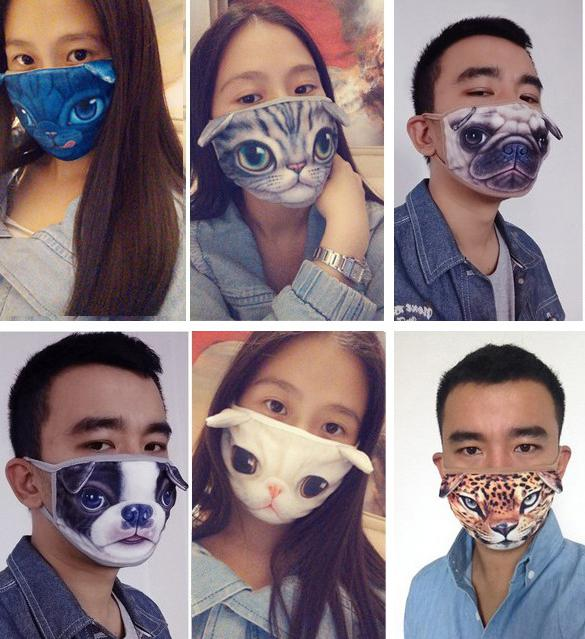OK: (37, 408, 183, 554), (225, 377, 367, 519), (429, 63, 562, 196), (214, 62, 345, 193), (442, 420, 572, 550), (6, 28, 135, 157)
